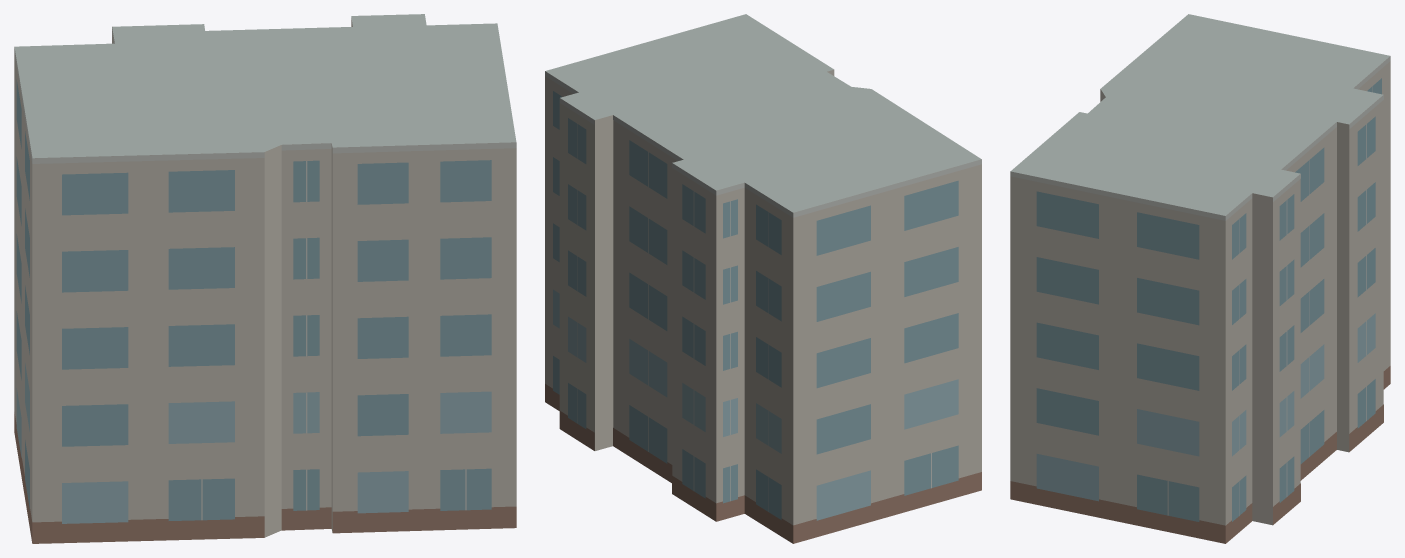
The model's file is survey-upis-32752663.glb.
3 renders of one model, left to right at view 1: azimuth 30°, elevation 25°; view 2: azimuth 150°, elevation 25°; view 3: azimuth 270°, elevation 25°, orthographic. The views are drawn at different scales.
Visible parts, largest first — view 1: survey-upis-32752663.tmp; view 2: survey-upis-32752663.tmp; view 3: survey-upis-32752663.tmp.
Boxes of the visible parts, x1,y1,x2,y2 form: survey-upis-32752663.tmp: (14,14,516,543); survey-upis-32752663.tmp: (545,14,981,543); survey-upis-32752663.tmp: (1010,14,1390,543).
Bounding box in the file's own units: 21.34 × 16.15 × 16.98.
